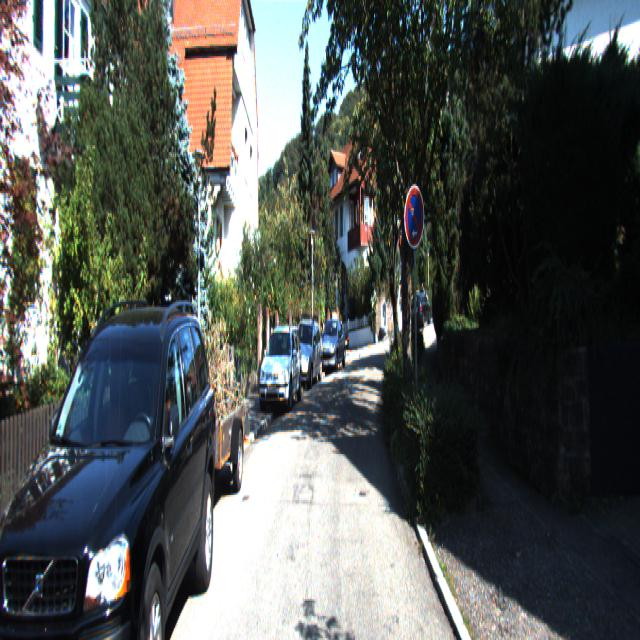Car: (0, 279, 217, 639), (166, 382, 251, 514), (257, 320, 303, 417), (290, 316, 324, 392), (318, 316, 346, 374), (412, 286, 432, 325)
